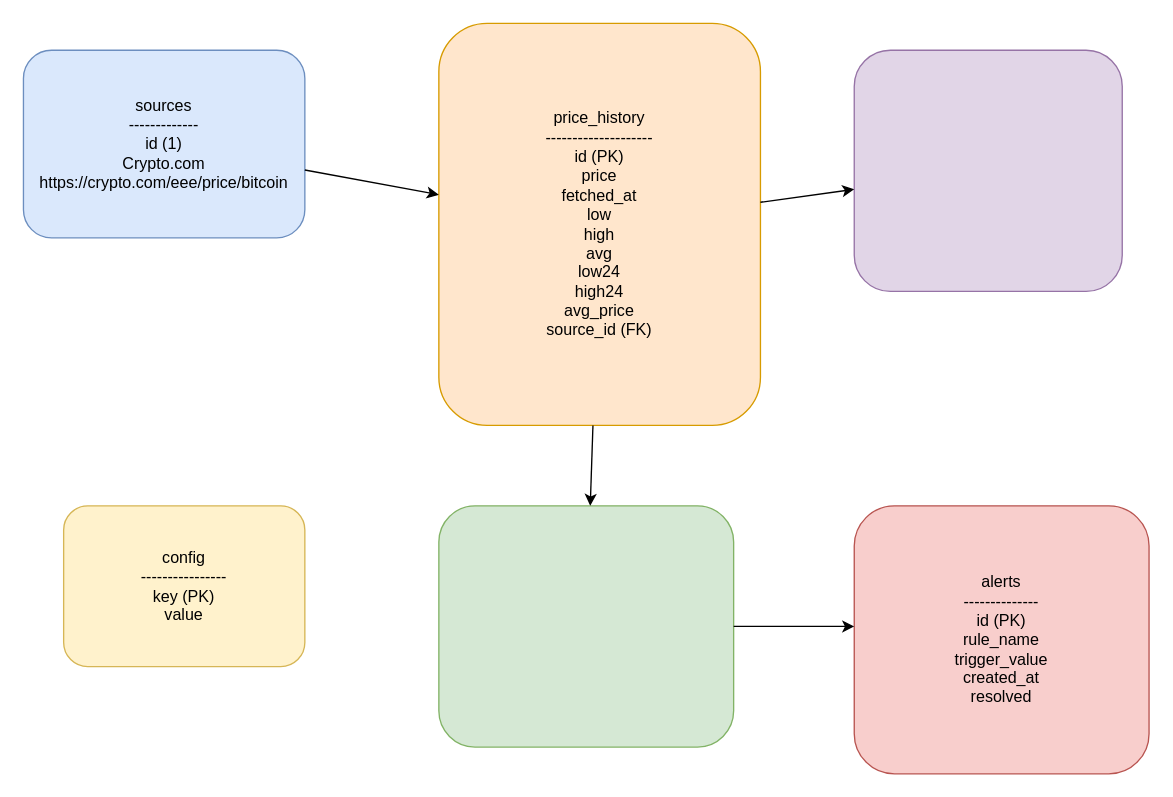
The diagram is 1173 pixels wide and 797 high, and some of its shapes have lost their labels. Each missing label, with the centre of its shape:
logs ----------- id (PK) timestamp type message entry_id (FK): point 987,170
metrics ---------------- id (PK) date min_price max_price avg_price: point 586,626
